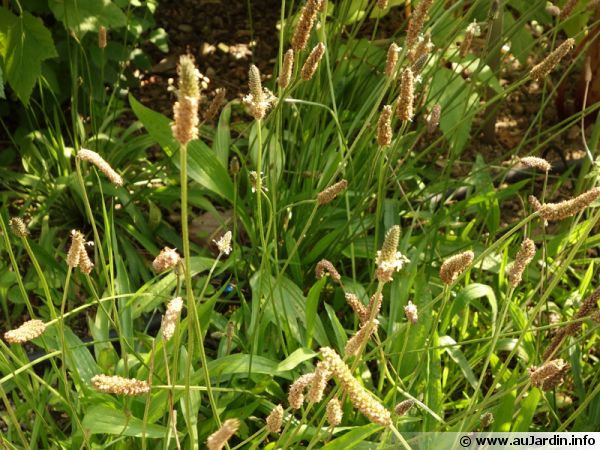buckhorn plantain: (55, 8, 543, 443)
